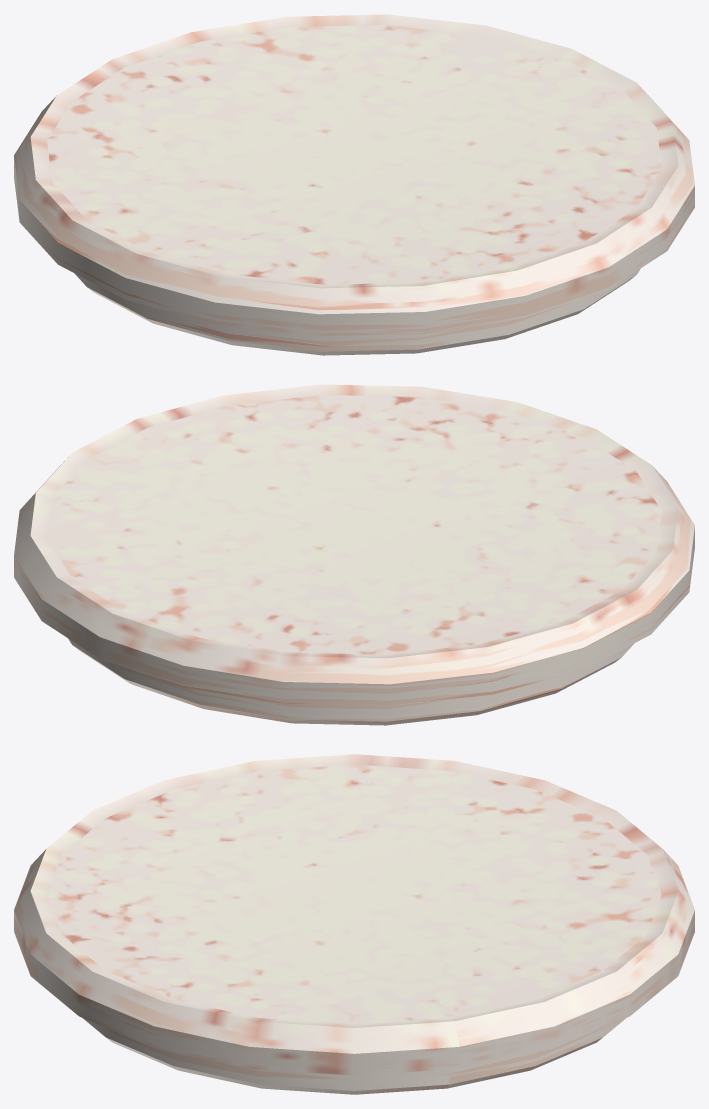
Rendered from junpstand.fbx.
3 views of the same model, one above another, from view 1: azimuth 30°, elevation 25°; view 2: azimuth 150°, elevation 25°; view 3: azimuth 270°, elevation 25° (orthographic).
Visible parts, largest first — view 1: tobiisi; view 2: tobiisi; view 3: tobiisi.
Boxes of the visible parts, left/top/right/bottom form: tobiisi: left=14, top=14, right=694, bottom=355; tobiisi: left=14, top=384, right=694, bottom=725; tobiisi: left=14, top=754, right=694, bottom=1094.
Size of the model in its own units: 483 by 60.49 by 483.
